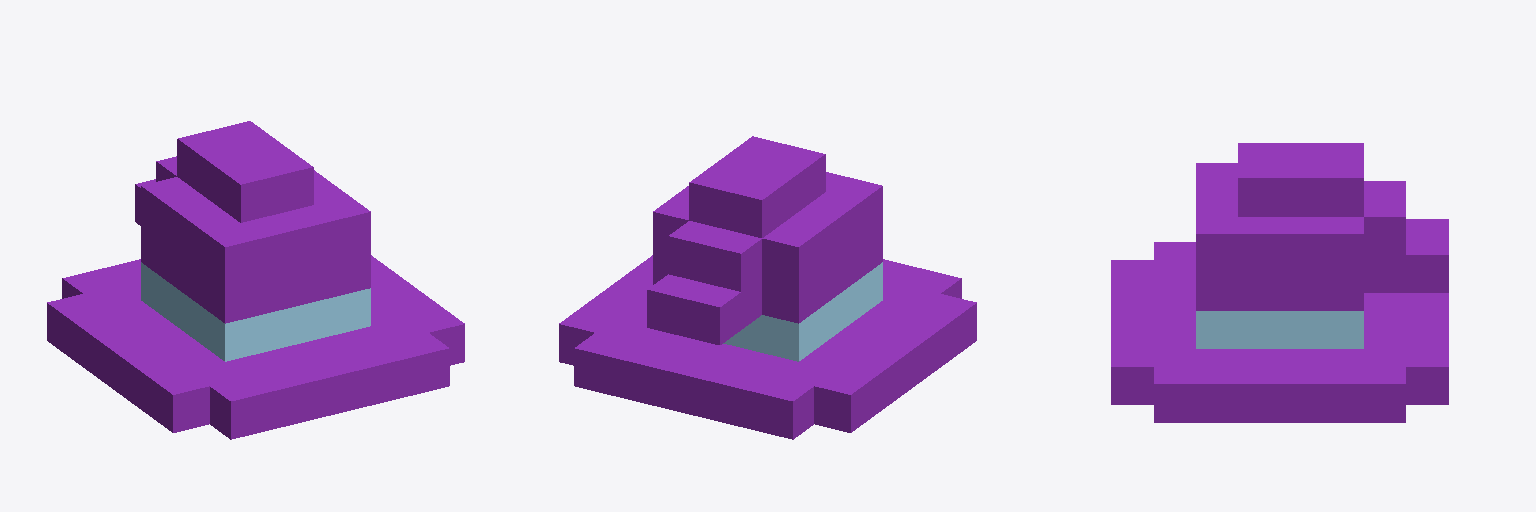
The picture shows the model from 3 angles: view 1: azimuth 30°, elevation 25°; view 2: azimuth 150°, elevation 25°; view 3: azimuth 270°, elevation 25°; orthographic projection.
Visible parts, largest first — view 1: object 1; view 2: object 1; view 3: object 1.
Boxes of the visible parts, x1=… form: object 1: x1=47, y1=121, x2=464, y2=439; object 1: x1=559, y1=136, x2=976, y2=439; object 1: x1=1111, y1=143, x2=1448, y2=422.
Bounding box in the file's own units: 0.8 × 0.5 × 0.8.
Materials: 1 (1 with a texture image).